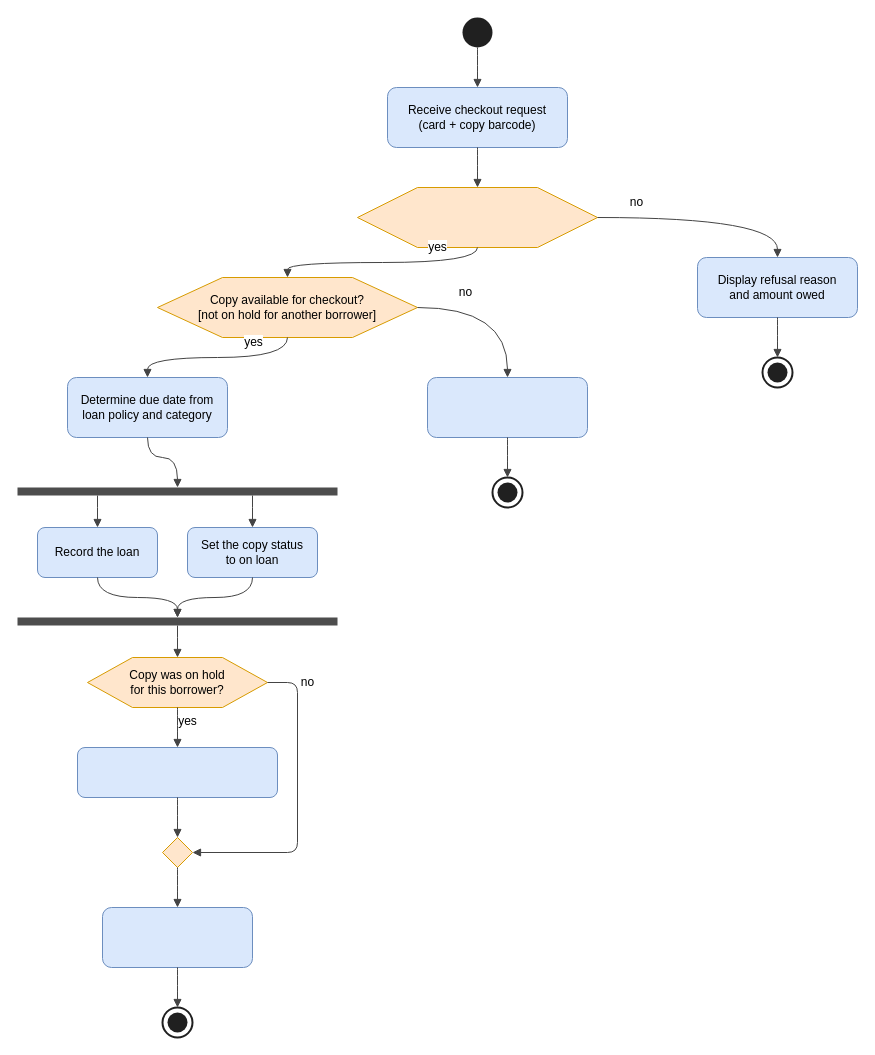
This 875x1055 diagram has some shape labels left out. The centre of each missing label's shape, as x and y in pixels:
Borrower eligible? [no unpaid fine, active account]: (x=477, y=217)
Display "copy reserved" message: (x=507, y=407)
Display confirmation with due date: (x=177, y=937)
Mark the reservation fulfilled: (x=177, y=772)
